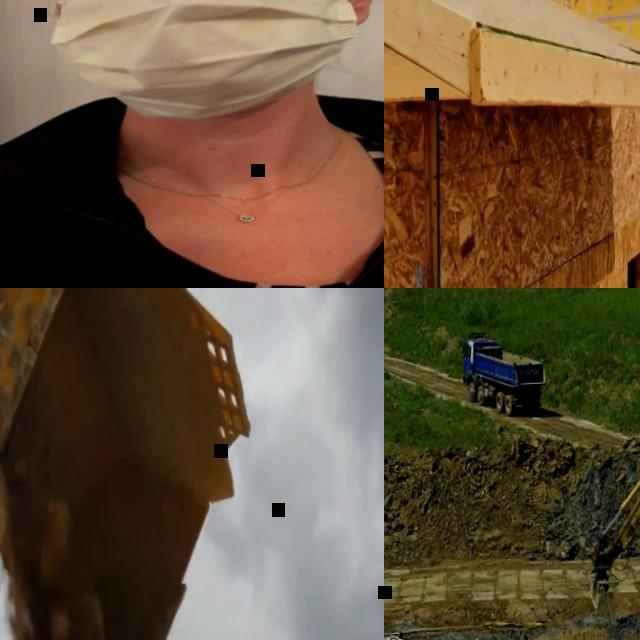Mask: (47, 0, 359, 124)
NO-Safety Vest: (0, 123, 384, 288)
Person: (0, 0, 384, 288)
machinery: (0, 288, 261, 640), (459, 326, 547, 416)
